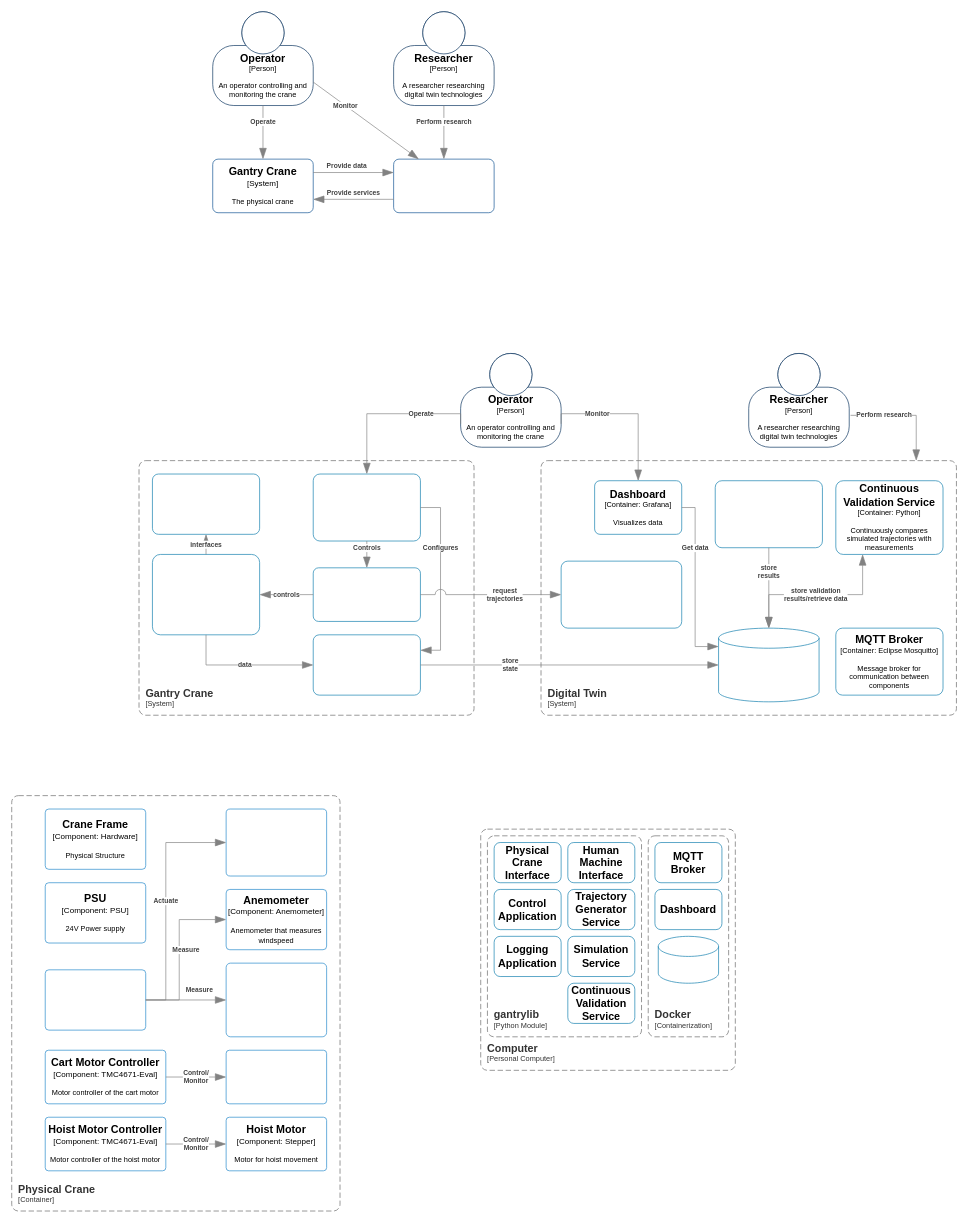
Some shapes in this 968 by 1223 pixel diagram are drawn without their labels. Here are the shapes that lost their labels. From the top down, the centre of each, then its label:
pixel 443 185: Digital Twin [Software System] The crane's digital twin
pixel 206 503: Physical Crane [Container: Hardware] The physical crane
pixel 366 507: Human Machine Interface [Container: Python] Control interface for the operator
pixel 768 514: Simulation Service [Container: Python] Simulates trajectories
pixel 206 594: Physical Crane Interface [Container: Python] The physical crane
pixel 366 594: Control Application [Container: Python] Controls the crane
pixel 621 594: Trajectory Generator Service [Container: Python] Generates optimal trajectories
pixel 366 664: Logging Application [Container: Python] Continuously logs state
pixel 768 664: Database [Container: TimescaleDB] Stores system logs, states, information
pixel 276 842: Electromagnet [Component: Electromagnet] Electromagnet to pick up containers
pixel 688 959: Database
pixel 95 999: Arduino [Component: Arduino] Measurement and control Arduino
pixel 276 999: Swing Angle Encoder [Component: Encoder] Encoder that measures swing angle
pixel 276 1077: Cart Motor [Component: Stepper] Motor for cart movement
